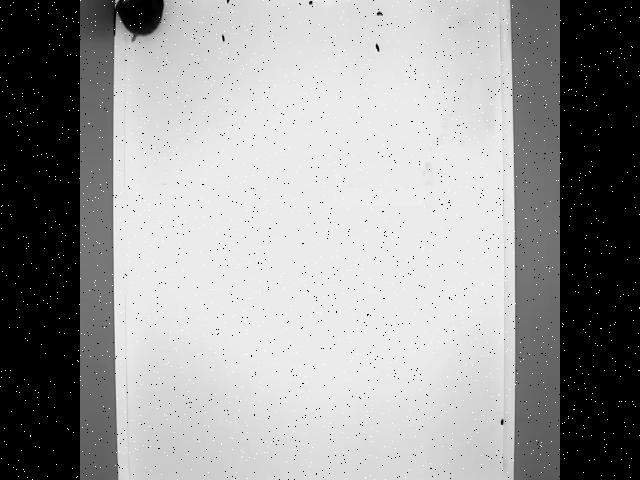Tikus: (110, 0, 167, 52)
